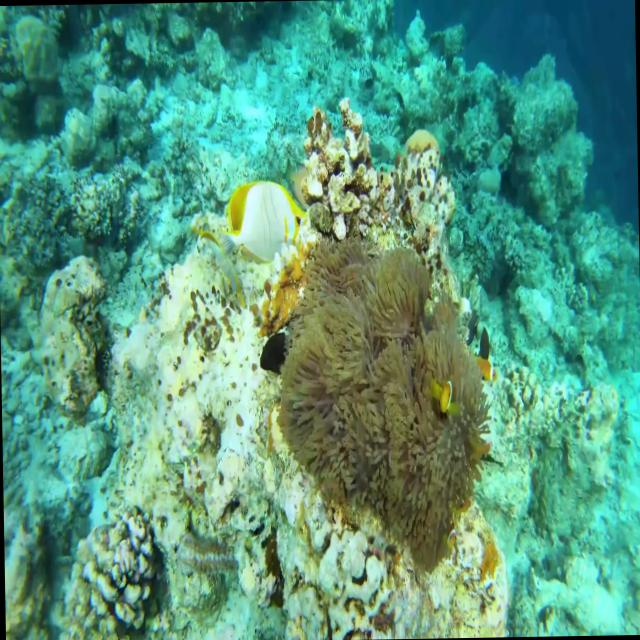fish: (201, 180, 304, 305)
